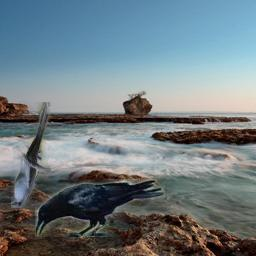Crow: (35, 179, 165, 237)
Cuckoo: (11, 102, 51, 208)
